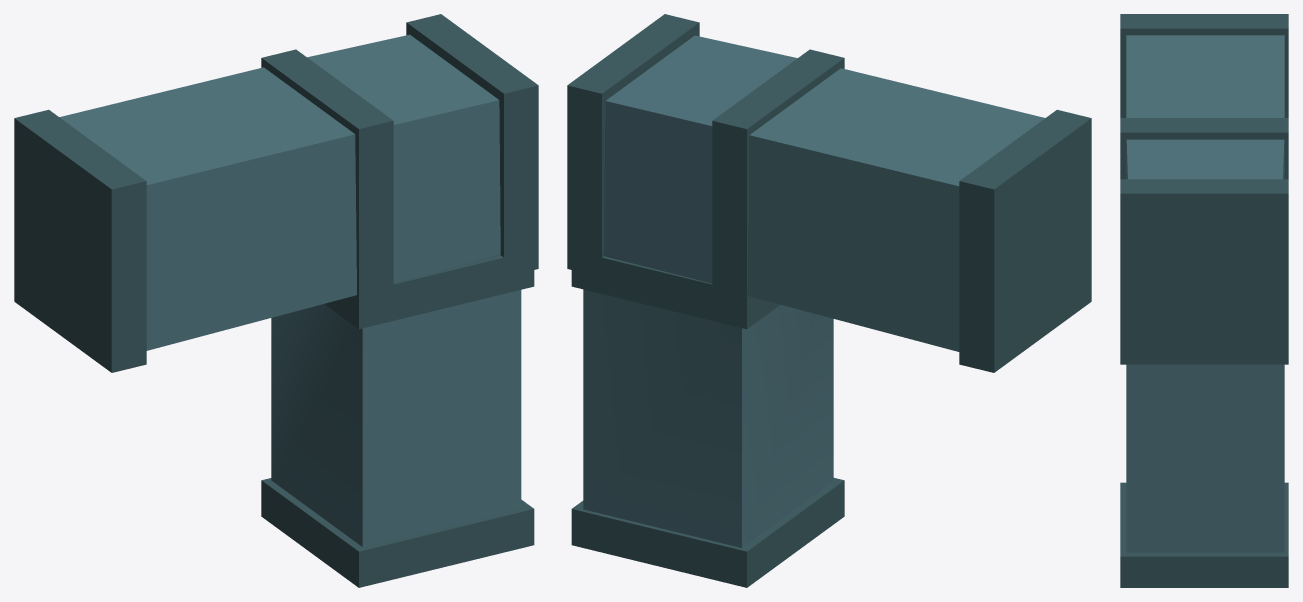
File: Vent_2_D_6.fbx
The picture shows the model from 3 angles, left to right: view 1: azimuth 30°, elevation 25°; view 2: azimuth 150°, elevation 25°; view 3: azimuth 270°, elevation 25°; orthographic projection. The views are drawn at different scales.
Parts seen in each view (by area): view 1: Vent_2_D_6; view 2: Vent_2_D_6; view 3: Vent_2_D_6.
Boxes of the visible parts, x1=… form: Vent_2_D_6: x1=14, y1=14, x2=538, y2=587; Vent_2_D_6: x1=567, y1=14, x2=1091, y2=587; Vent_2_D_6: x1=1120, y1=14, x2=1288, y2=587.
Bounding box in the file's own units: 90.02 × 92.44 × 35.62.
